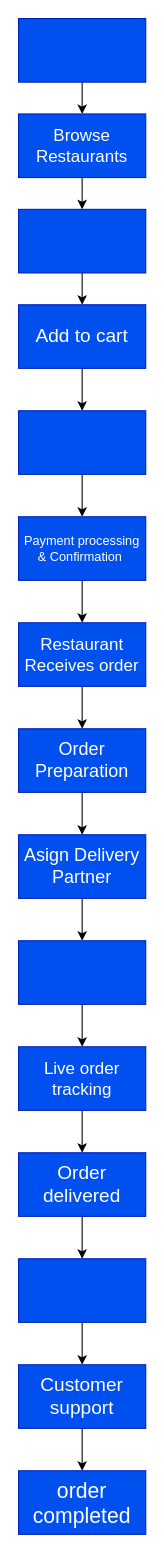
Some shapes in this 164 by 1553 pixel diagram are drawn without their labels. The box of each missing label's shape, as (x1, y1, x2, y2) in pixels:
Pickup by delivery agent: (17, 940, 146, 1004)
Place Order: (17, 410, 146, 474)
Rate and review: (17, 1258, 146, 1322)
Use Registration: (17, 17, 146, 82)
View Menu Items: (17, 208, 146, 273)
